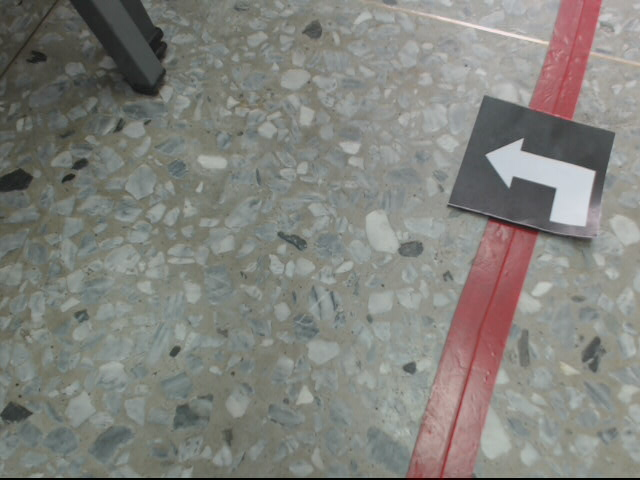left: (445, 96, 613, 241)
